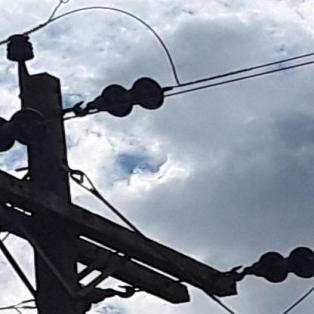Poste: (14, 62, 123, 314)
